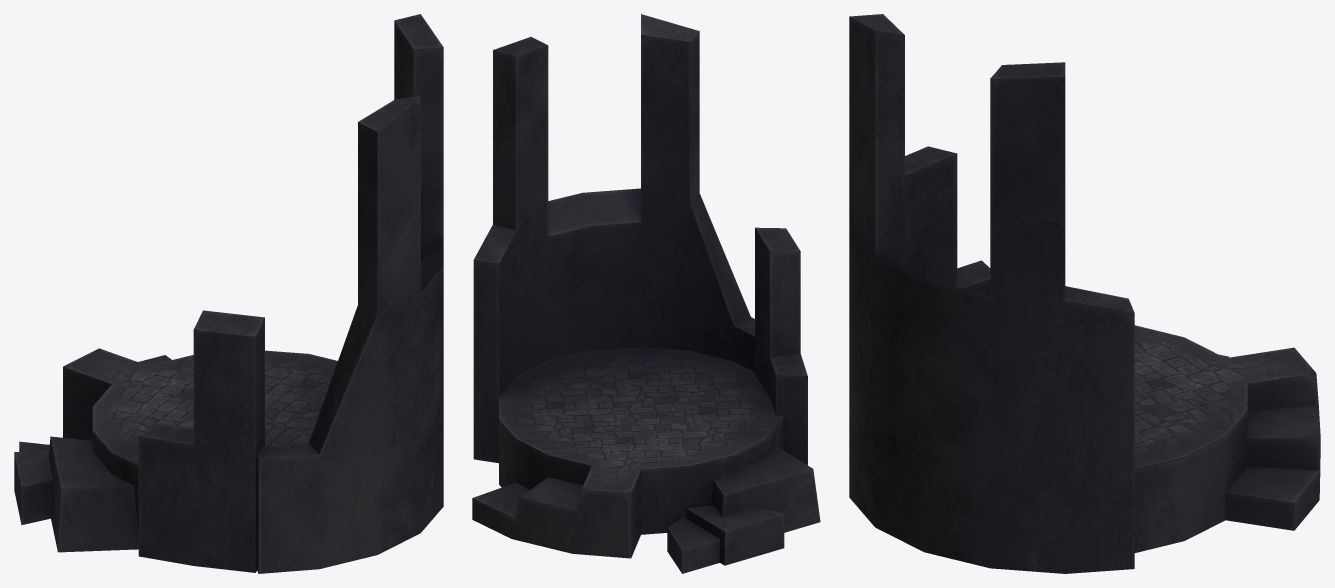
Rendered from Ruins3.FBX.
The picture shows the model from 3 angles, left to right: view 1: azimuth 30°, elevation 25°; view 2: azimuth 150°, elevation 25°; view 3: azimuth 270°, elevation 25°; orthographic projection. The views are drawn at different scales.
Parts seen in each view (by area): view 1: Ruins3; view 2: Ruins3; view 3: Ruins3.
Boxes of the visible parts, left/top/right/bottom form: Ruins3: left=14, top=14, right=443, bottom=573; Ruins3: left=472, top=14, right=820, bottom=573; Ruins3: left=849, top=14, right=1320, bottom=573.
Bounding box in the file's own units: 1399 × 1634 × 1373.
1 material, 1 textured.
